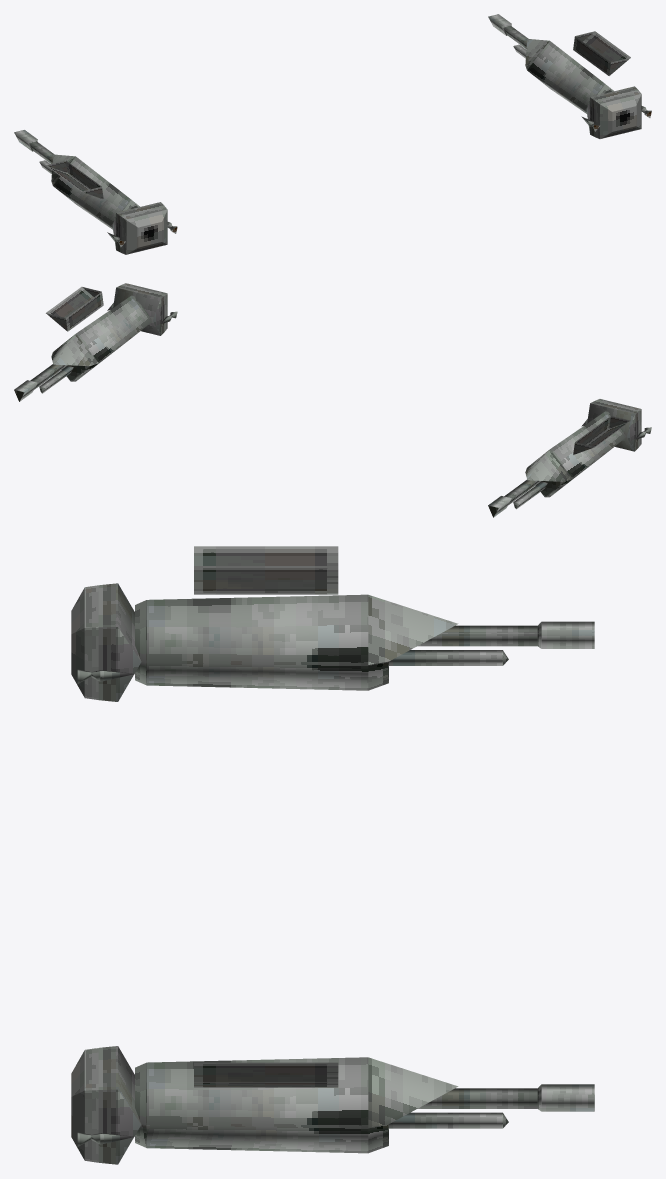
File: black_sun_fighter_heavy_weapon3_s03_l2.fbx
3 renders of one model, top to bottom at view 1: azimuth 30°, elevation 25°; view 2: azimuth 150°, elevation 25°; view 3: azimuth 270°, elevation 25°, orthographic. The views are drawn at different scales.
Visible parts, largest first — view 1: mesh_node; view 2: mesh_node; view 3: mesh_node.
Boxes of the visible parts, x1,y1,x2,y2 form: mesh_node: (14, 14, 651, 254); mesh_node: (14, 283, 651, 517); mesh_node: (71, 546, 594, 1164).
Bounding box in the file's own units: 13.83 × 1.3 × 5.7.
